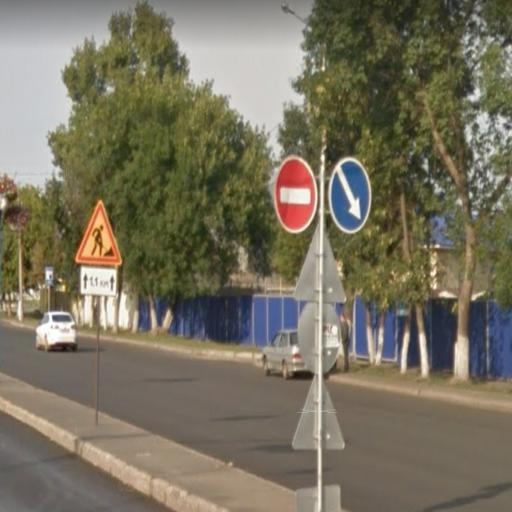traffic_sign: (273, 152, 322, 237), (74, 195, 125, 273)
